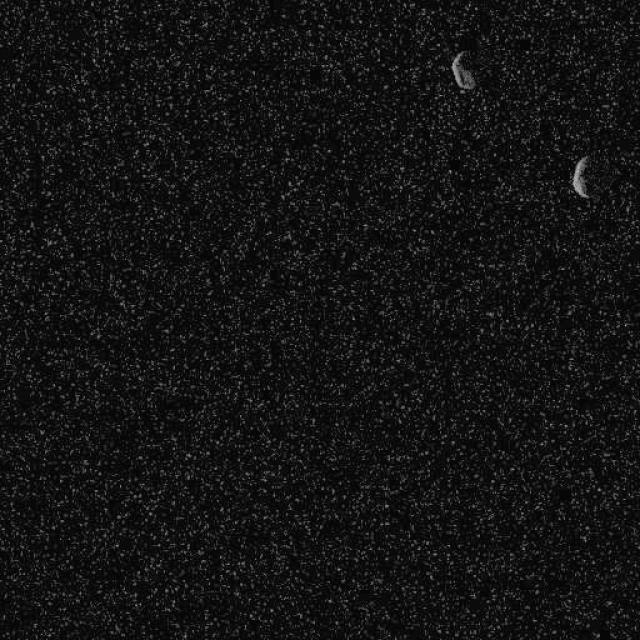D2: (450, 49, 476, 90), (570, 154, 591, 198)
